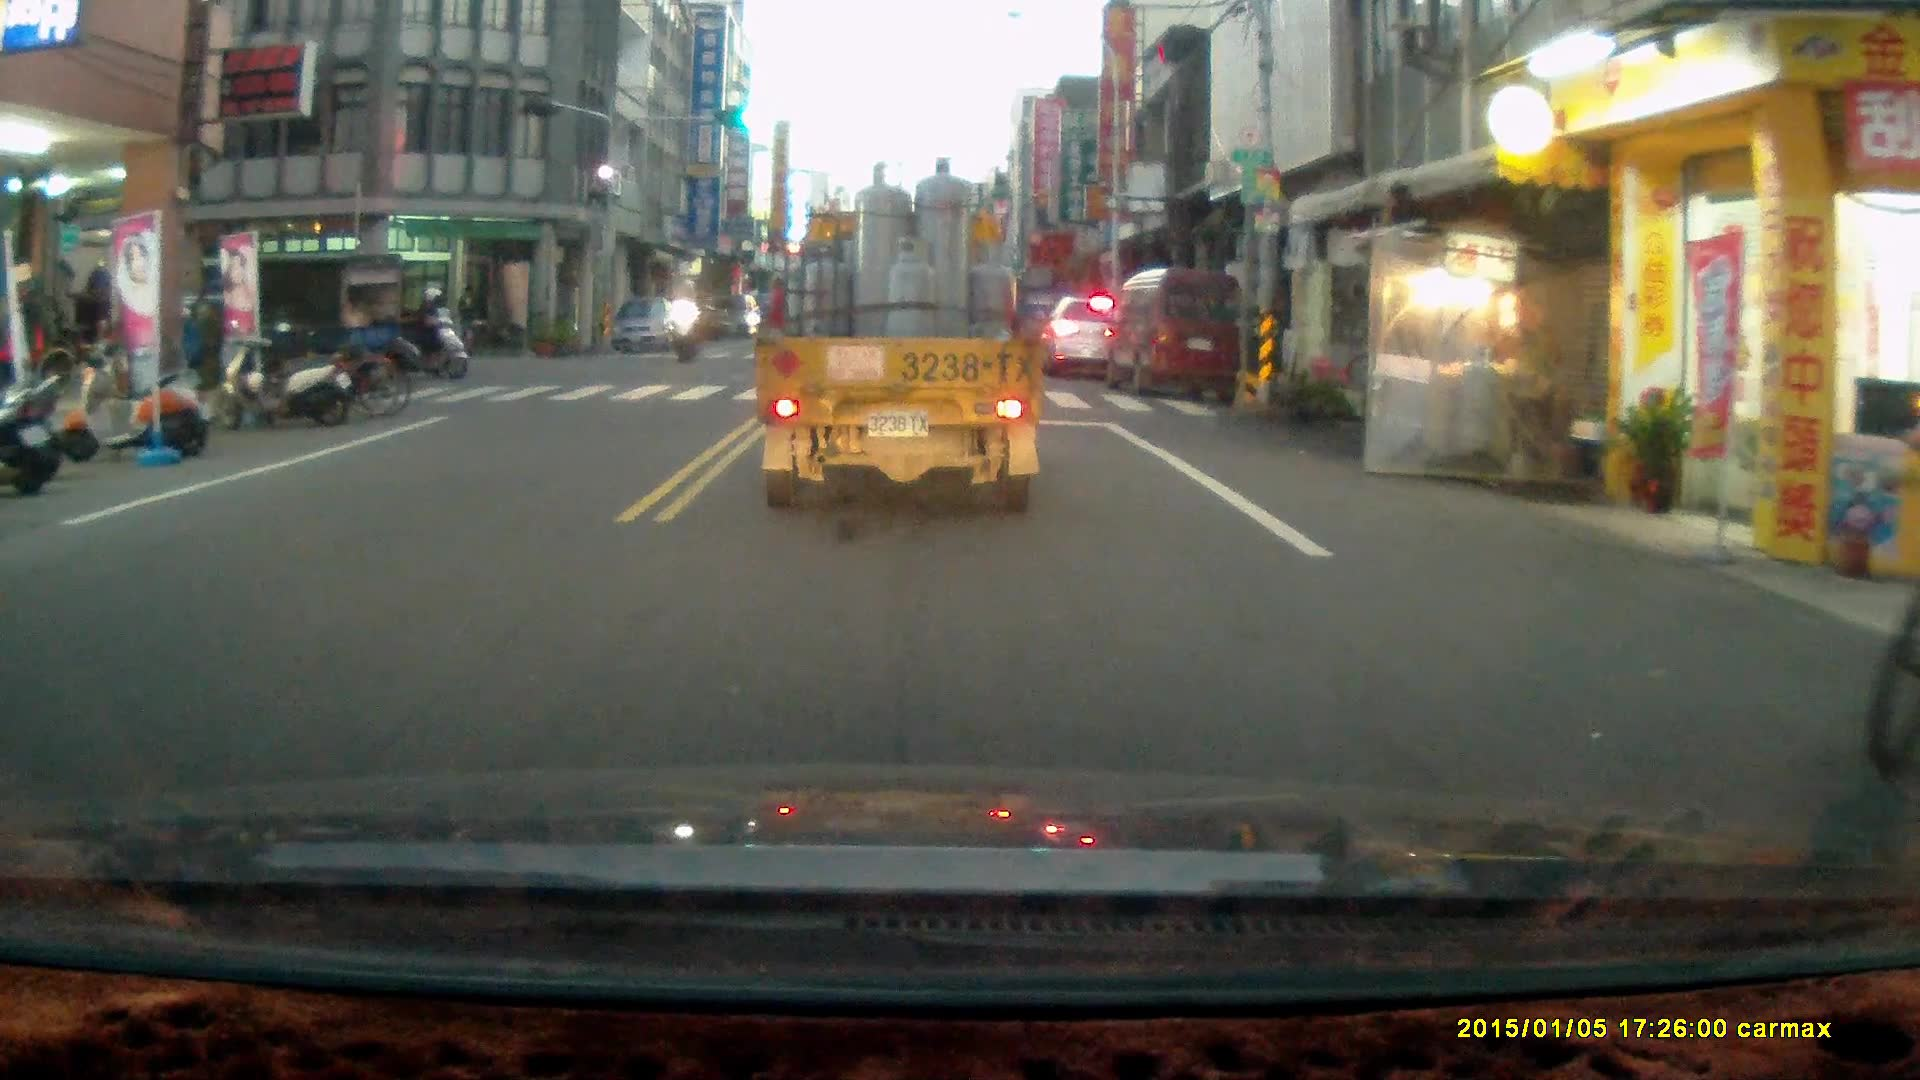pedestrian: (77, 264, 116, 373), (455, 279, 480, 355)
rider: (397, 284, 472, 383), (663, 273, 710, 366)
vehicle: (753, 162, 1036, 517), (149, 247, 412, 391), (1102, 267, 1247, 404), (1045, 296, 1129, 379), (612, 294, 685, 356)
